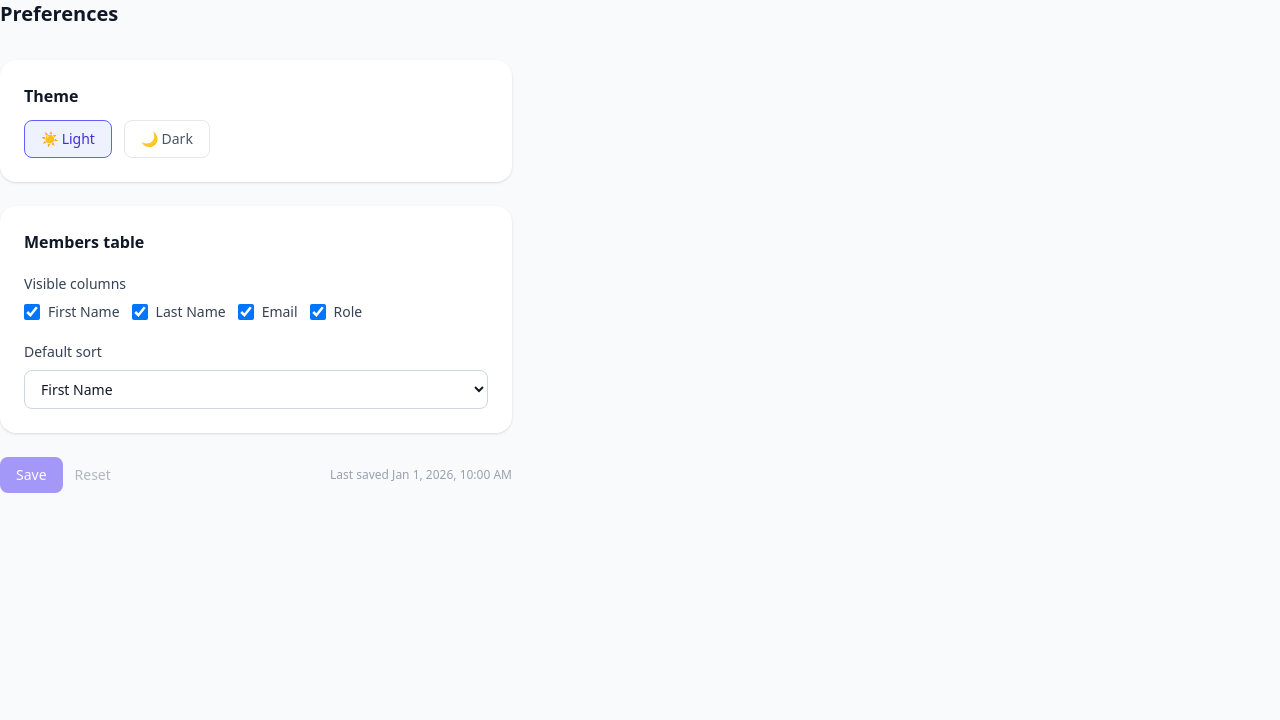
Test: PreferencesPage › Save button › shows "Saving…" and is disabled while the request is in progress
This screenshot has width=1280, height=720.
Check: the text "Last saved Jan 1, 2026, 10:00 AM" is shown, box [330,467,512,483]
What coordinates should you click on to do the following:
click the radio button labelled "🌙 Dark"
I would click on:
 (167, 139)
Its box is [124,120,210,158].
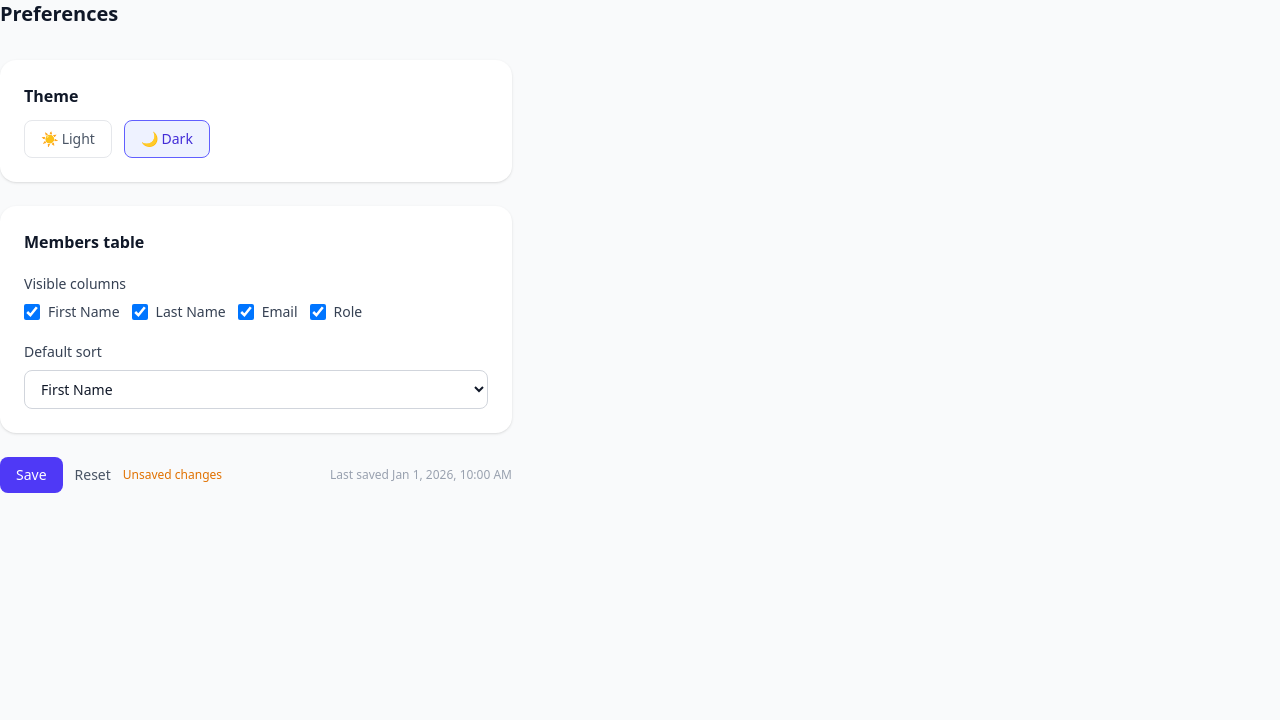
What coordinates should you click on to do the following:
click the button "Save"
I would click on:
 (31, 475)
Its box is [0,457,63,493].
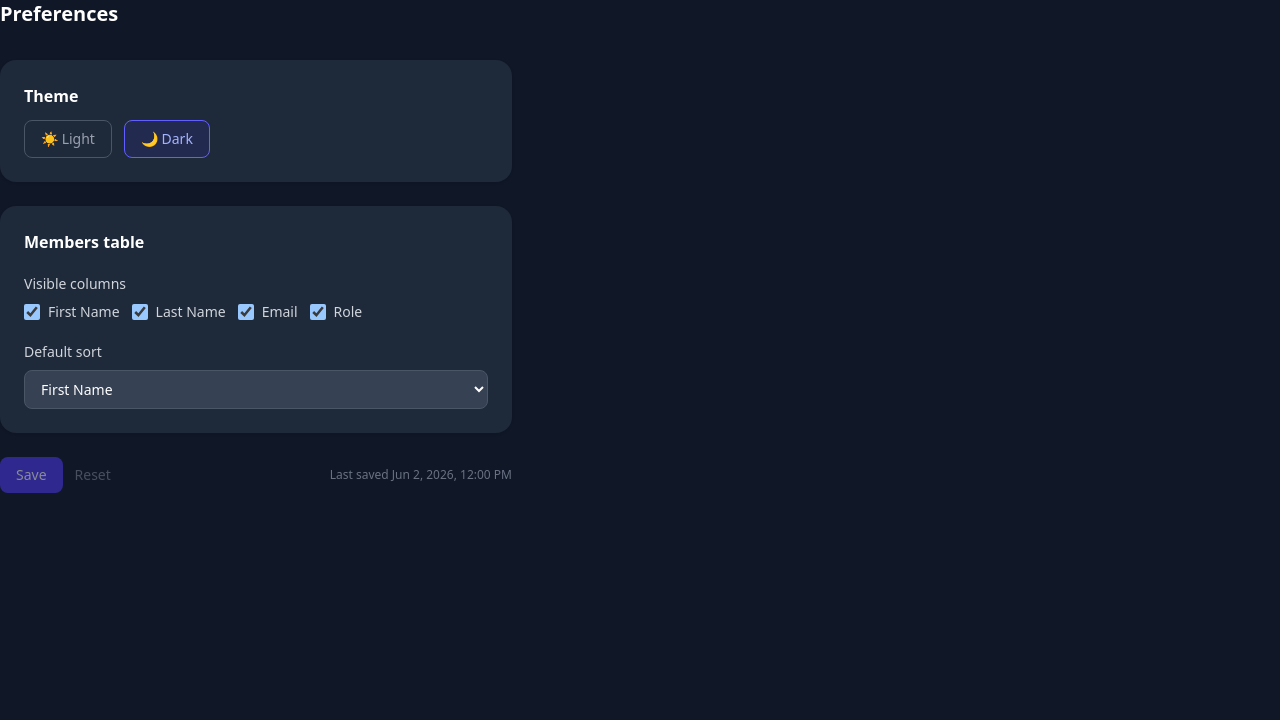
Check: the button named "saving" is disabled, box [0,457,63,493]
Check: the button "Save" is disabled, box [0,457,63,493]
